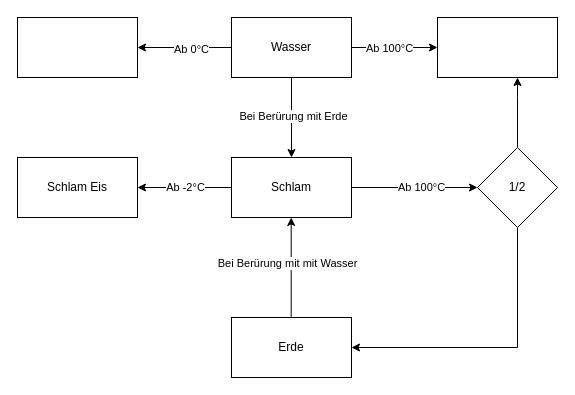
Image size: 575x395. Some labels were removed from this diagram. The centre of each missing label's shape, as x and y in pixels:
"Dampf" goes at (497,47).
"Eis" goes at (77,47).
